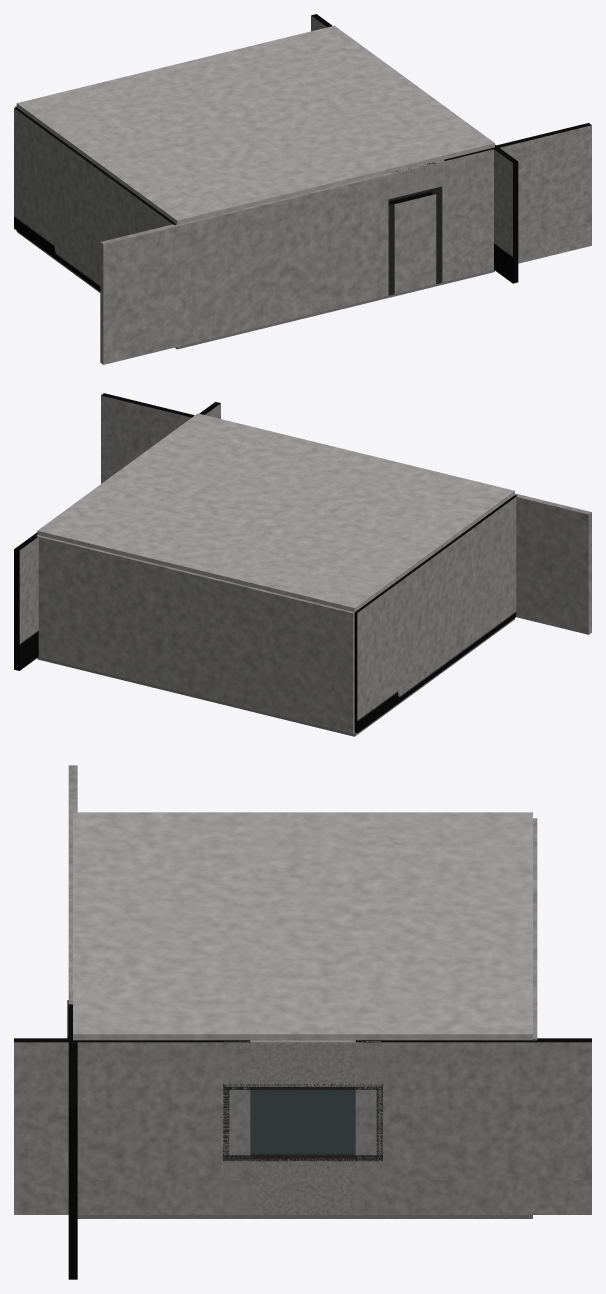
Rendered from tactical_room.glb.
The picture shows the model from 3 angles, top to bottom: view 1: azimuth 30°, elevation 25°; view 2: azimuth 150°, elevation 25°; view 3: azimuth 270°, elevation 25°; orthographic projection. The views are drawn at different scales.
Visible parts, largest first — view 1: ceiling, wall_front_a, wall_front_b, wall_left, wall_right_a, floor, door_frame_l, door_frame_r, wall_front_head; view 2: ceiling, wall_back, wall_left, wall_front_a, wall_front_b, wall_right_b, floor; view 3: ceiling, wall_right_b, wall_right_a, wall_right_sill, win_glass, wall_right_head, wall_front_b, floor, wall_front_a, win_frame_b, wall_back, win_frame_t.
Boxes of the visible parts, left/top/right/bottom form: ceiling: left=16, top=25, right=494, bottom=224; wall_front_a: left=100, top=160, right=444, bottom=364; wall_front_b: left=401, top=123, right=591, bottom=281; wall_left: left=14, top=107, right=176, bottom=291; wall_right_a: left=494, top=145, right=518, bottom=283; floor: left=16, top=231, right=494, bottom=349; door_frame_l: left=388, top=203, right=394, bottom=295; door_frame_r: left=436, top=191, right=442, bottom=283; wall_front_head: left=392, top=162, right=436, bottom=197; ceiling: left=37, top=413, right=514, bottom=612; wall_back: left=36, top=535, right=354, bottom=733; wall_left: left=354, top=495, right=517, bottom=733; wall_front_a: left=515, top=493, right=591, bottom=634; wall_front_b: left=101, top=393, right=194, bottom=483; wall_right_b: left=14, top=532, right=38, bottom=670; floor: left=37, top=618, right=514, bottom=736; ceiling: left=73, top=812, right=532, bottom=1040; wall_right_b: left=355, top=1038, right=591, bottom=1214; wall_right_a: left=14, top=1038, right=250, bottom=1214; wall_right_sill: left=224, top=1158, right=381, bottom=1214; win_glass: left=250, top=1090, right=355, bottom=1153; wall_right_head: left=224, top=1040, right=381, bottom=1086; wall_front_b: left=68, top=987, right=77, bottom=1279; floor: left=77, top=1215, right=532, bottom=1218; wall_front_a: left=68, top=765, right=77, bottom=1004; win_frame_b: left=223, top=1153, right=382, bottom=1161; wall_back: left=533, top=818, right=537, bottom=1040; win_frame_t: left=223, top=1084, right=382, bottom=1089.
Size of the model in its own units: 12.3 by 3.1 by 8.8.
9 materials, 9 textured.
